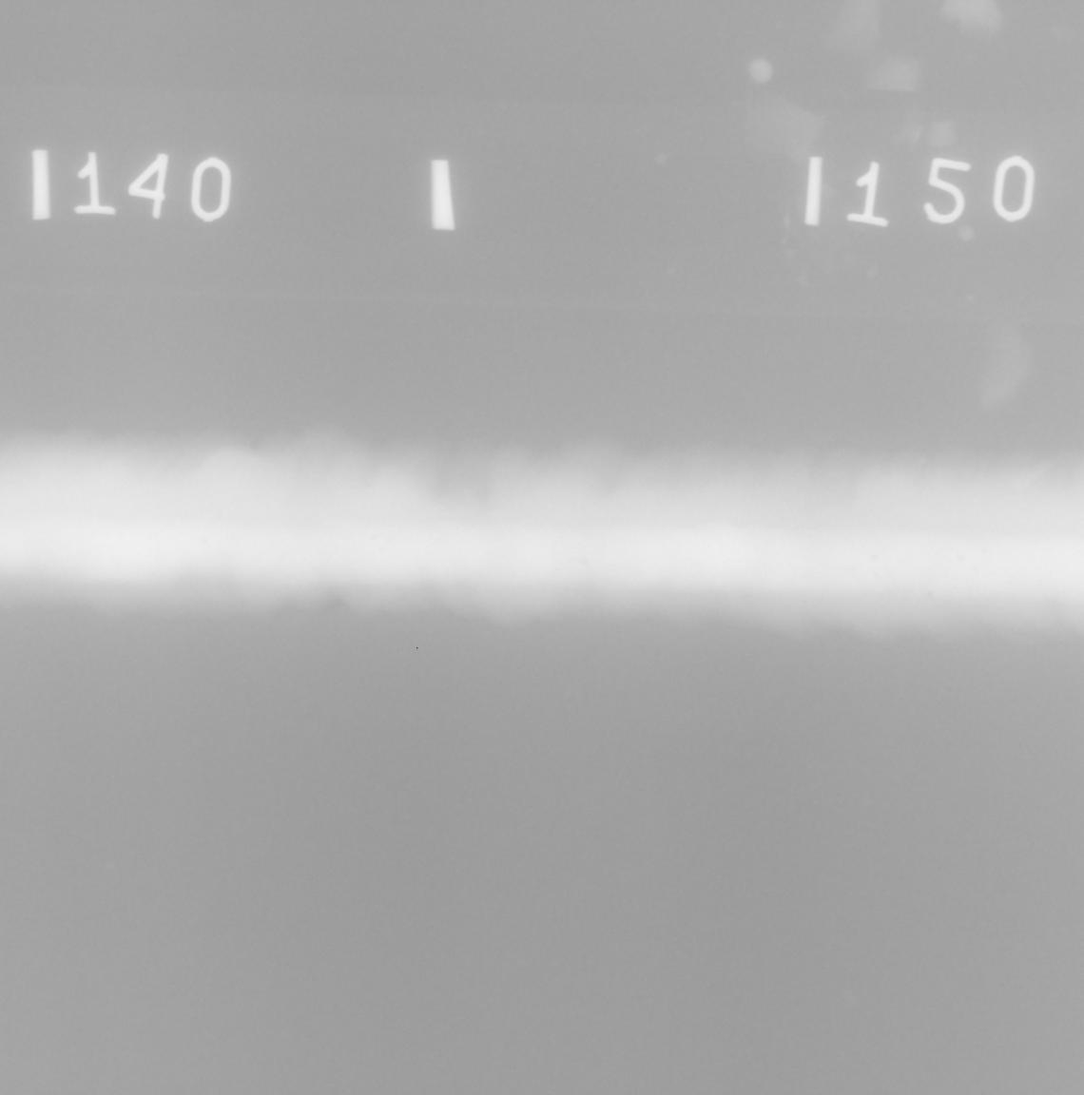Pore/Porosity: (873, 573, 883, 580), (956, 554, 966, 561), (579, 558, 589, 565), (870, 555, 879, 561), (967, 586, 974, 593), (849, 567, 857, 573), (379, 546, 386, 552), (928, 592, 933, 599), (982, 550, 987, 555), (203, 539, 208, 544), (975, 568, 979, 573), (372, 535, 376, 539), (971, 579, 974, 583), (387, 539, 390, 542)
